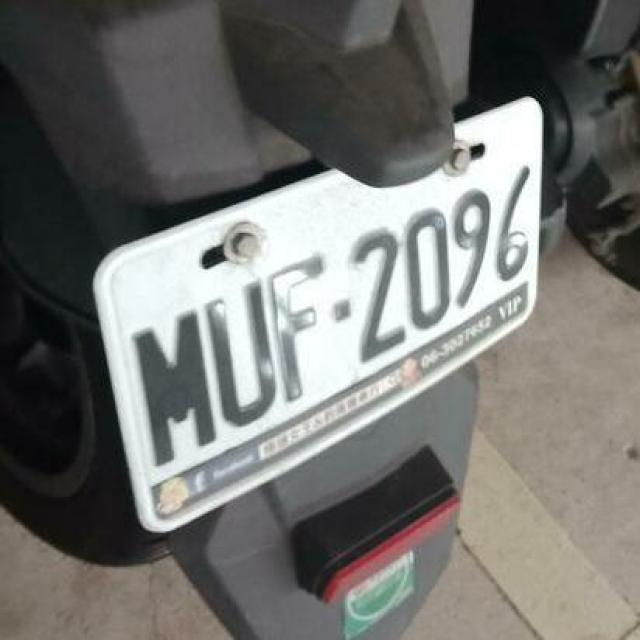W: (73, 95, 561, 519)
